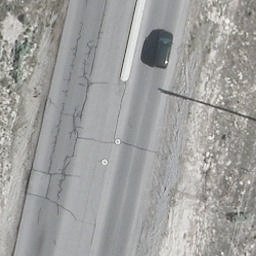car: (153, 29, 174, 70)
